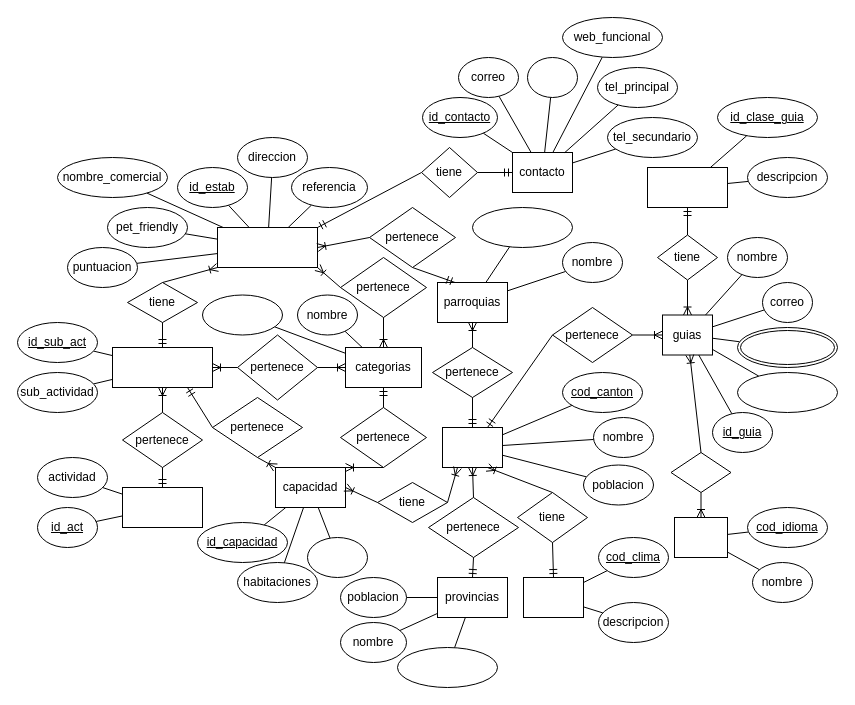
This 855x705 diagram has some shape labels left out. The centre of each missing label's shape, as x and y in pixels:
"actividades" goes at (x=162, y=507).
"camas" goes at (x=337, y=557).
"cantones" goes at (x=472, y=447).
"clase_guias" goes at (x=687, y=187).
"climas" goes at (x=553, y=597).
"cod_parroquia" goes at (x=522, y=227).
"cod_provincia" goes at (x=447, y=667).
"emision_licencia" goes at (x=787, y=392).
"establecimientos" goes at (x=267, y=247).
"habla" goes at (x=700, y=472).
"id_categoria" goes at (x=242, y=314).
"idiomas" goes at (x=701, y=537).
"nacionalidad" goes at (x=787, y=347).
"sub_actividades" goes at (x=162, y=367).
"web" goes at (x=552, y=77).
